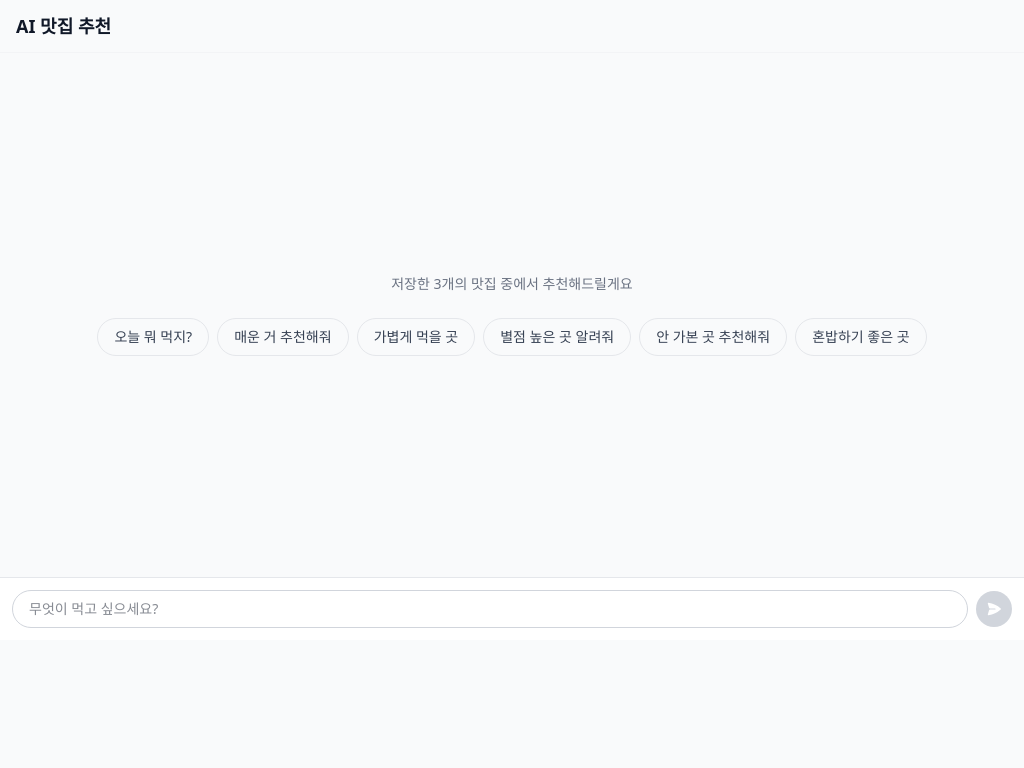
Scenario: DiscoverPage (Chat Agent) › sends message on form submit
This screenshot has width=1024, height=768.
Step 1. Type "치킨 추천해줘" into the field with placeholder "무엇이 먹고 싶으세요?" → x=490, y=609, box [12, 590, 968, 628]
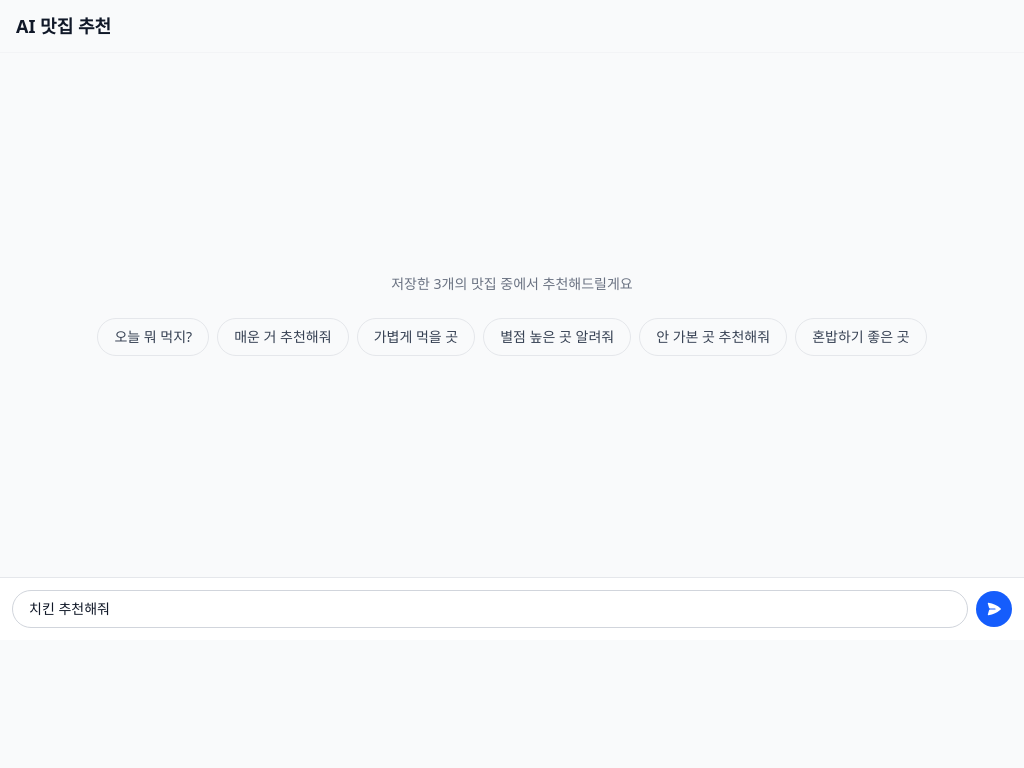
Step 2. Submit the form with placeholder "무엇이 먹고 싶으세요?", box [0, 577, 1023, 640]
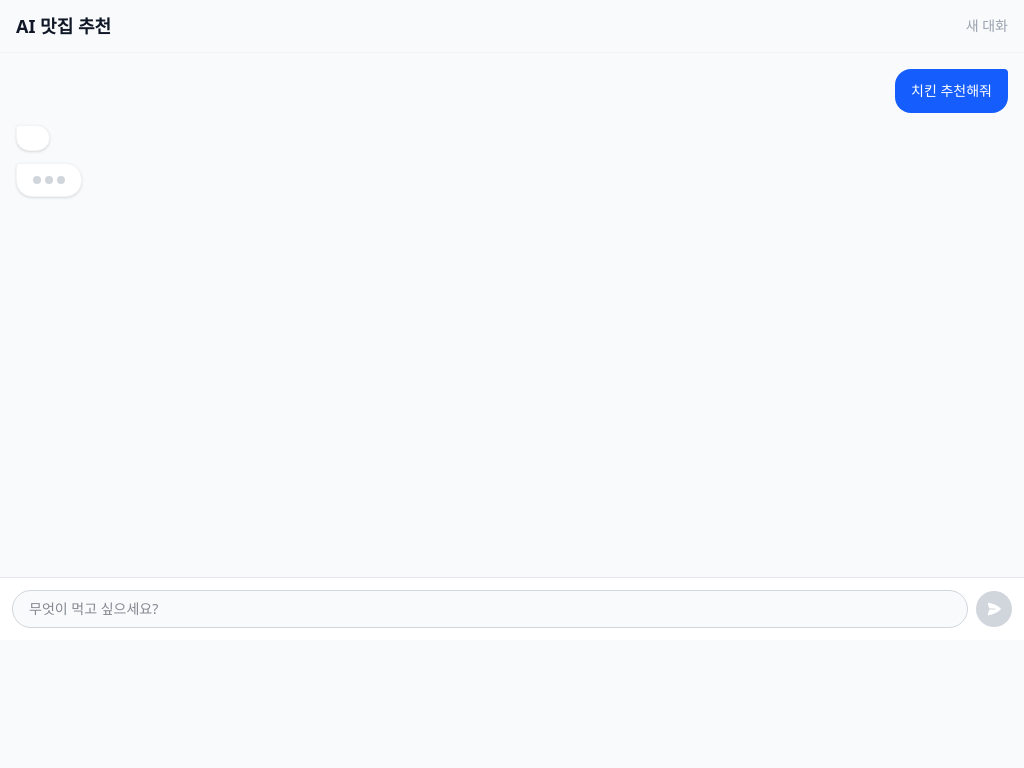
Check: the text "치킨 추천해줘" is shown, box [911, 81, 992, 101]
